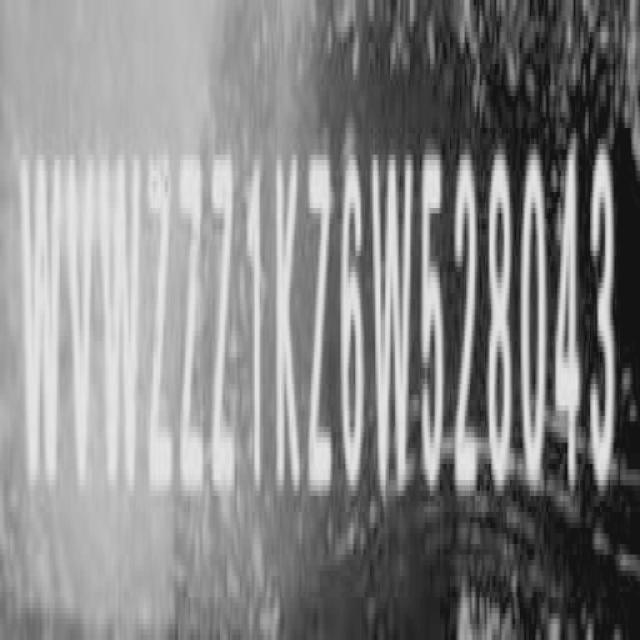0: (520, 144, 548, 497)
1: (244, 138, 270, 508)
2: (449, 139, 481, 503)
3: (590, 142, 619, 492)
4: (551, 140, 582, 494)
5: (418, 137, 448, 503)
6: (339, 139, 368, 508)
8: (486, 143, 514, 499)
K: (271, 135, 303, 510)
V: (66, 156, 98, 488)
W: (369, 146, 416, 502), (21, 143, 65, 506), (102, 140, 144, 509)
Z: (146, 142, 178, 504), (209, 142, 240, 508), (308, 136, 338, 505), (180, 141, 208, 507)
